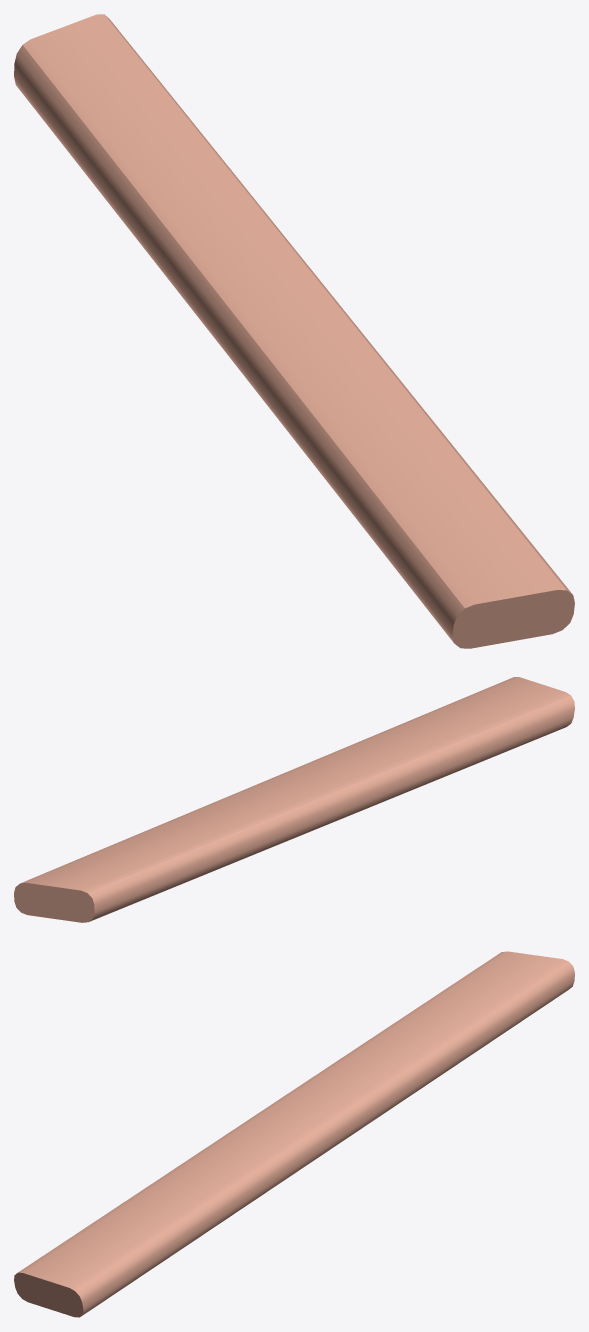
The model's file is holder 4.fbx.
3 views of the same model, one above another, from view 1: azimuth 30°, elevation 25°; view 2: azimuth 150°, elevation 25°; view 3: azimuth 330°, elevation 25° (orthographic). The views are drawn at different scales.
Parts seen in each view (by area): view 1: Holder 4; view 2: Holder 4; view 3: Holder 4.
Boxes of the visible parts, x1,y1,x2,y2 form: Holder 4: (14,14,574,648); Holder 4: (14,677,574,922); Holder 4: (14,951,574,1317).
Bounding box in the file's own units: 238 × 126 × 973.
